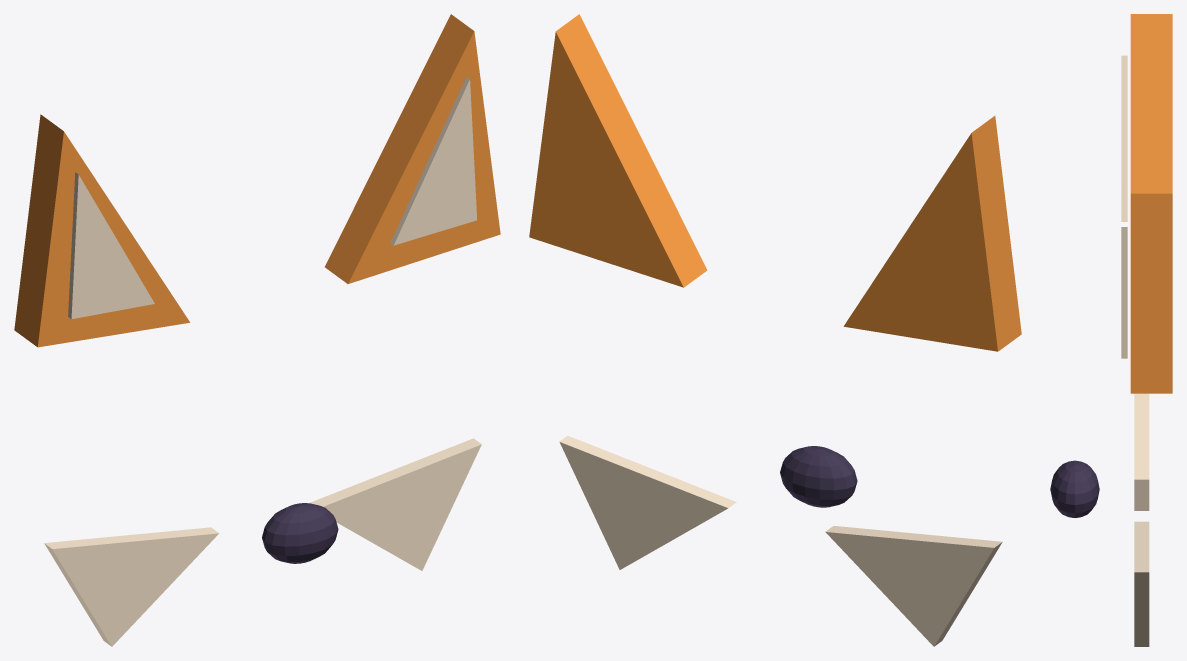
The model's file is fox.glb.
3 views of the same model, side by side, from view 1: azimuth 30°, elevation 25°; view 2: azimuth 150°, elevation 25°; view 3: azimuth 270°, elevation 25° (orthographic). The views are drawn at different scales.
Parts seen in each view (by area): view 1: fox ear (×2), fox cheek (×2), fox ear inner (×2), nose; view 2: fox ear (×2), fox cheek (×2), nose; view 3: fox ear (×2), fox cheek (×2), nose, fox ear inner (×2).
Boxes of the visible parts, x1,y1,x2,y2 form: fox ear (×2): (14, 14, 500, 347); fox cheek (×2): (44, 438, 481, 646); fox ear inner (×2): (68, 76, 477, 319); nose: (262, 503, 338, 563); fox ear (×2): (529, 14, 1021, 351); fox cheek (×2): (559, 435, 1002, 646); nose: (780, 446, 857, 507); fox ear (×2): (1130, 14, 1172, 393); fox cheek (×2): (1134, 393, 1149, 646); nose: (1050, 460, 1099, 517); fox ear inner (×2): (1121, 55, 1127, 358).
Bounding box in the file's own units: 1.94 × 2.12 × 0.495.
